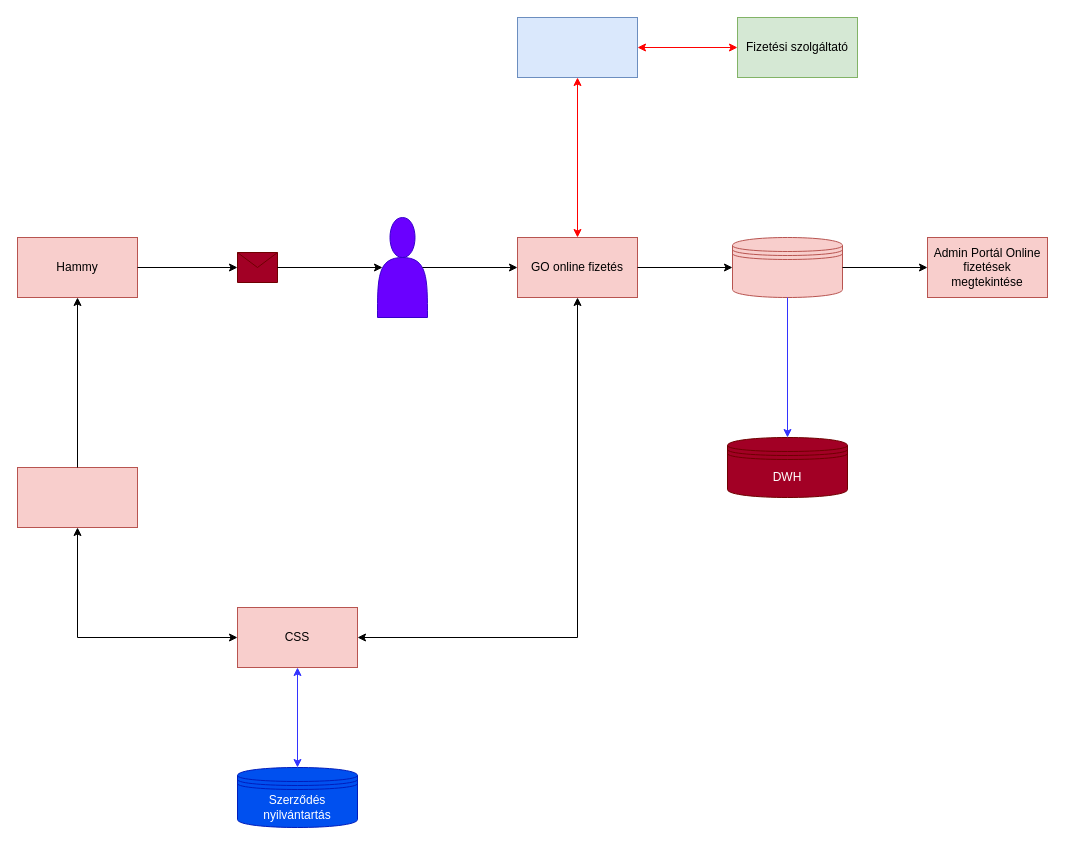
This 1065x845 diagram has some shape labels left out. Each missing label, with the centre of its shape:
"Calculate WS" goes at (77,497).
"Online Payment" goes at (787,267).
"Payment Gateway" goes at (577,47).
"ügyfél" goes at (402,267).
